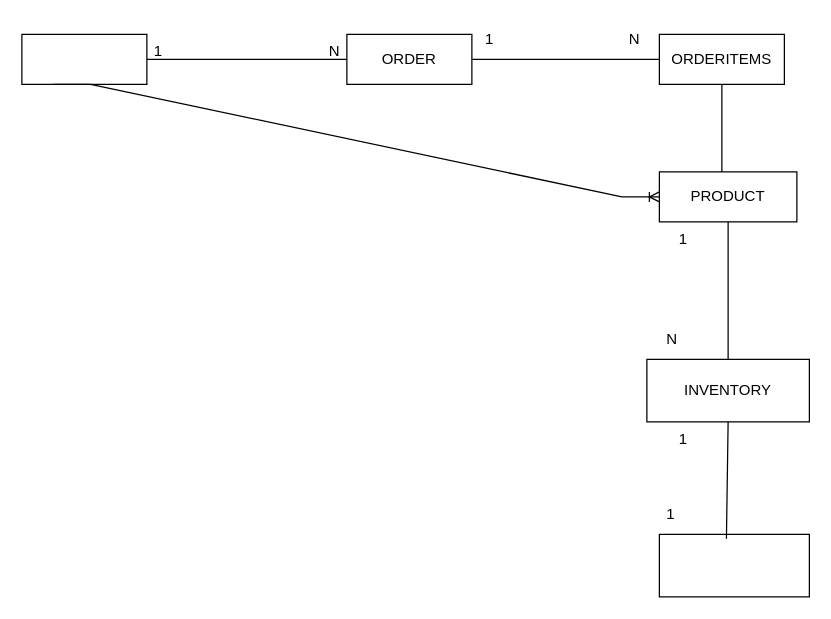
This 831x619 diagram has some shape labels left out. Each missing label, with the centre of its shape:
CATEGORIES: pixel 733 565
USER: pixel 84 58
